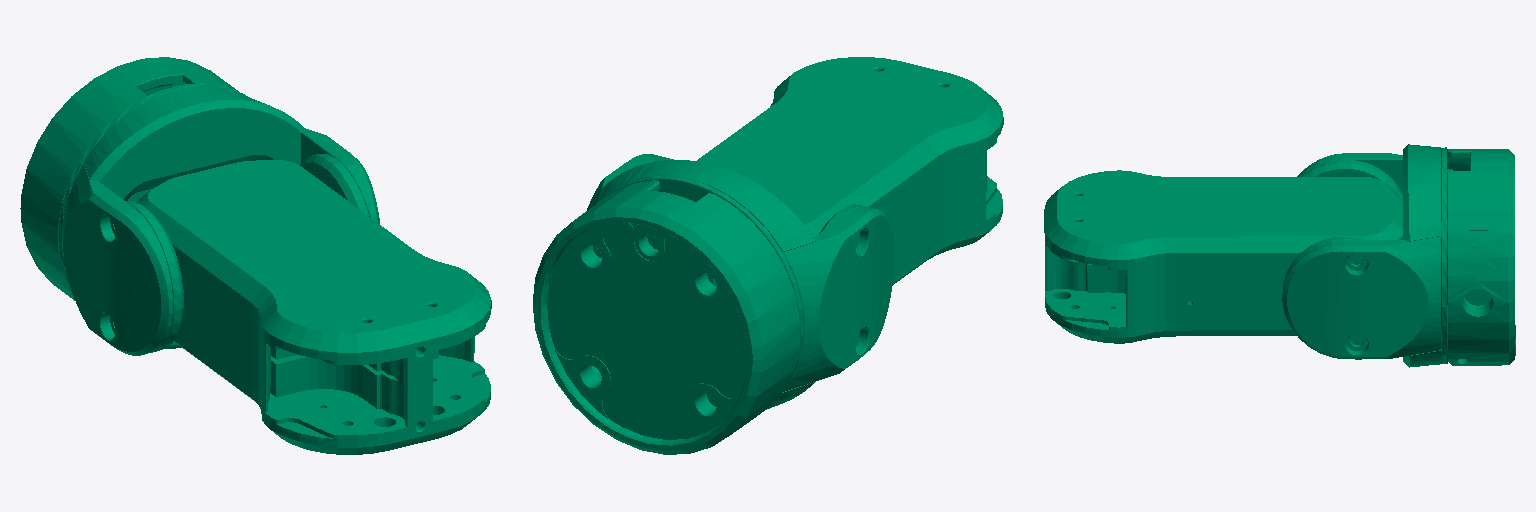
robot.urdf — ur5e_robot:
<?xml version="1.0" encoding="utf-8"?>
<robot name="ur5e_robot">
  <transmission name="shoulder_pan_trans">
    <type>
      transmission_interface/SimpleTransmission
    </type>
    <joint name="shoulder_pan_joint">
      <hardwareInterface>
        hardware_interface/PositionJointInterface
      </hardwareInterface>
    </joint>
    <actuator name="shoulder_pan_motor">
      <mechanicalReduction>
        1
      </mechanicalReduction>
    </actuator>
  </transmission>
  <transmission name="shoulder_lift_trans">
    <type>
      transmission_interface/SimpleTransmission
    </type>
    <joint name="shoulder_lift_joint">
      <hardwareInterface>
        hardware_interface/PositionJointInterface
      </hardwareInterface>
    </joint>
    <actuator name="shoulder_lift_motor">
      <mechanicalReduction>
        1
      </mechanicalReduction>
    </actuator>
  </transmission>
  <transmission name="elbow_trans">
    <type>
      transmission_interface/SimpleTransmission
    </type>
    <joint name="elbow_joint">
      <hardwareInterface>
        hardware_interface/PositionJointInterface
      </hardwareInterface>
    </joint>
    <actuator name="elbow_motor">
      <mechanicalReduction>
        1
      </mechanicalReduction>
    </actuator>
  </transmission>
  <transmission name="wrist_1_trans">
    <type>
      transmission_interface/SimpleTransmission
    </type>
    <joint name="wrist_1_joint">
      <hardwareInterface>
        hardware_interface/PositionJointInterface
      </hardwareInterface>
    </joint>
    <actuator name="wrist_1_motor">
      <mechanicalReduction>
        1
      </mechanicalReduction>
    </actuator>
  </transmission>
  <transmission name="wrist_2_trans">
    <type>
      transmission_interface/SimpleTransmission
    </type>
    <joint name="wrist_2_joint">
      <hardwareInterface>
        hardware_interface/PositionJointInterface
      </hardwareInterface>
    </joint>
    <actuator name="wrist_2_motor">
      <mechanicalReduction>
        1
      </mechanicalReduction>
    </actuator>
  </transmission>
  <transmission name="wrist_3_trans">
    <type>
      transmission_interface/SimpleTransmission
    </type>
    <joint name="wrist_3_joint">
      <hardwareInterface>
        hardware_interface/PositionJointInterface
      </hardwareInterface>
    </joint>
    <actuator name="wrist_3_motor">
      <mechanicalReduction>
        1
      </mechanicalReduction>
    </actuator>
  </transmission>
  <link name="base_link">
    <visual>
      <origin rpy="0 0 3.141592653589793" xyz="0 0 0"/>
      <geometry>
        <mesh filename="../meshes/ur5e/visual/base.dae"/>
      </geometry>
      <material name="LightGrey">
        <color rgba="0.7 0.7 0.7 1.0"/>
      </material>
    </visual>
    <collision>
      <origin rpy="0 0 3.141592653589793" xyz="0 0 0"/>
      <geometry>
        <mesh filename="../meshes/ur5e/collision/base.stl"/>
      </geometry>
    </collision>
    <inertial>
      <mass value="4.0"/>
      <origin rpy="0 0 0" xyz="0 0 0"/>
      <inertia ixx="0.00443333156" ixy="0.0" ixz="0.0" iyy="0.00443333156" iyz="0.0" izz="0.0072"/>
    </inertial>
  </link>
  <link name="shoulder_link">
    <visual>
      <origin rpy="0 0 3.141592653589793" xyz="0 0 0"/>
      <geometry>
        <mesh filename="../meshes/ur5e/visual/shoulder.dae"/>
      </geometry>
      <material name="LightGrey">
        <color rgba="0.7 0.7 0.7 1.0"/>
      </material>
    </visual>
    <collision>
      <origin rpy="0 0 3.141592653589793" xyz="0 0 0"/>
      <geometry>
        <mesh filename="../meshes/ur5e/collision/shoulder.stl"/>
      </geometry>
    </collision>
    <inertial>
      <mass value="3.7"/>
      <origin rpy="0 0 0" xyz="0 0 0"/>
      <inertia ixx="0.010267495893" ixy="0.0" ixz="0.0" iyy="0.010267495893" iyz="0.0" izz="0.00666"/>
    </inertial>
  </link>
  <link name="upper_arm_link">
    <visual>
      <origin rpy="1.5707963267948966 0 -1.5707963267948966" xyz="0 0 0.138"/>
      <geometry>
        <mesh filename="../meshes/ur5e/visual/upperarm.dae"/>
      </geometry>
      <material name="LightGrey">
        <color rgba="0.7 0.7 0.7 1.0"/>
      </material>
    </visual>
    <collision>
      <origin rpy="1.5707963267948966 0 -1.5707963267948966" xyz="0 0 0.138"/>
      <geometry>
        <mesh filename="../meshes/ur5e/collision/upperarm.stl"/>
      </geometry>
    </collision>
    <inertial>
      <mass value="8.393"/>
      <origin rpy="0 1.5707963267948966 0" xyz="-0.2125 0.0 0.138"/>
      <inertia ixx="0.1338857818623325" ixy="0.0" ixz="0.0" iyy="0.1338857818623325" iyz="0.0" izz="0.0151074"/>
    </inertial>
  </link>
  <link name="forearm_link">
    <visual>
      <origin rpy="1.5707963267948966 0 -1.5707963267948966" xyz="0 0 0.007"/>
      <geometry>
        <mesh filename="../meshes/ur5e/visual/forearm.dae"/>
      </geometry>
      <material name="LightGrey">
        <color rgba="0.7 0.7 0.7 1.0"/>
      </material>
    </visual>
    <collision>
      <origin rpy="1.5707963267948966 0 -1.5707963267948966" xyz="0 0 0.007"/>
      <geometry>
        <mesh filename="../meshes/ur5e/collision/forearm.stl"/>
      </geometry>
    </collision>
    <inertial>
      <mass value="2.275"/>
      <origin rpy="0 1.5707963267948966 0" xyz="-0.1961 0.0 0.007"/>
      <inertia ixx="0.031209355099586295" ixy="0.0" ixz="0.0" iyy="0.031209355099586295" iyz="0.0" izz="0.004095"/>
    </inertial>
  </link>
  <link name="wrist_1_link">
    <visual>
      <origin rpy="1.5707963267948966 0 0" xyz="0 0 -0.127"/>
      <geometry>
        <mesh filename="../meshes/ur5e/visual/wrist1.dae"/>
      </geometry>
      <material name="LightGrey">
        <color rgba="0.7 0.7 0.7 1.0"/>
      </material>
    </visual>
    <collision>
      <origin rpy="1.5707963267948966 0 0" xyz="0 0 -0.127"/>
      <geometry>
        <mesh filename="../meshes/ur5e/collision/wrist1.stl"/>
      </geometry>
    </collision>
    <inertial>
      <mass value="1.219"/>
      <origin rpy="0 0 0" xyz="0 0 0"/>
      <inertia ixx="0.0025598989760400002" ixy="0.0" ixz="0.0" iyy="0.0025598989760400002" iyz="0.0" izz="0.0021942"/>
    </inertial>
  </link>
  <link name="wrist_2_link">
    <visual>
      <origin rpy="0 0 0" xyz="0 0 -0.0997"/>
      <geometry>
        <mesh filename="../meshes/ur5e/visual/wrist2.dae"/>
      </geometry>
      <material name="LightGrey">
        <color rgba="0.7 0.7 0.7 1.0"/>
      </material>
    </visual>
    <collision>
      <origin rpy="0 0 0" xyz="0 0 -0.0997"/>
      <geometry>
        <mesh filename="../meshes/ur5e/collision/wrist2.stl"/>
      </geometry>
    </collision>
    <inertial>
      <mass value="1.219"/>
      <origin rpy="0 0 0" xyz="0 0 0"/>
      <inertia ixx="0.0025598989760400002" ixy="0.0" ixz="0.0" iyy="0.0025598989760400002" iyz="0.0" izz="0.0021942"/>
    </inertial>
  </link>
  <link name="wrist_3_link">
    <visual>
      <origin rpy="1.5707963267948966 0 0" xyz="0 0 -0.0989"/>
      <geometry>
        <mesh filename="../meshes/ur5e/visual/wrist3.dae"/>
      </geometry>
      <material name="LightGrey">
        <color rgba="0.7 0.7 0.7 1.0"/>
      </material>
    </visual>
    <collision>
      <origin rpy="1.5707963267948966 0 0" xyz="0 0 -0.0989"/>
      <geometry>
        <mesh filename="../meshes/ur5e/collision/wrist3.stl"/>
      </geometry>
    </collision>
    <inertial>
      <mass value="0.1879"/>
      <origin rpy="0 0 0" xyz="0.0 0.0 -0.0229"/>
      <inertia ixx="9.890410052167731e-05" ixy="0.0" ixz="0.0" iyy="9.890410052167731e-05" iyz="0.0" izz="0.0001321171875"/>
    </inertial>
  </link>
  <joint name="shoulder_pan_joint" type="revolute">
    <parent link="base_link"/>
    <child link="shoulder_link"/>
    <origin rpy="0 0 5.838799881086043e-08" xyz="0 0 0.1627957511460952"/>
    <axis xyz="0 0 1"/>
    <limit effort="150.0" lower="-6.283185307179586" upper="6.283185307179586" velocity="3.141592653589793"/>
    <dynamics damping="0" friction="0"/>
  </joint>
  <joint name="shoulder_lift_joint" type="revolute">
    <parent link="shoulder_link"/>
    <child link="upper_arm_link"/>
    <origin rpy="1.571121456180029 0 3.408471391117692e-06" xyz="0.0002297527990250293 0 0"/>
    <axis xyz="0 0 1"/>
    <limit effort="150.0" lower="-6.283185307179586" upper="6.283185307179586" velocity="3.141592653589793"/>
    <dynamics damping="0" friction="0"/>
  </joint>
  <joint name="elbow_joint" type="revolute">
    <parent link="upper_arm_link"/>
    <child link="forearm_link"/>
    <origin rpy="3.141560008571467 -3.140442251338941 -3.141590660002632" xyz="-0.4251778979556664 0 0"/>
    <axis xyz="0 0 1"/>
    <limit effort="150.0" lower="-3.141592653589793" upper="3.141592653589793" velocity="3.141592653589793"/>
    <dynamics damping="0" friction="0"/>
  </joint>
  <joint name="wrist_1_joint" type="revolute">
    <parent link="forearm_link"/>
    <child link="wrist_1_link"/>
    <origin rpy="0.005348319422639594 0.0007457898627076391 -9.589521419945506e-06" xyz="-0.3922529717389943 -0.0007143311192542647 0.1335605171943241"/>
    <axis xyz="0 0 1"/>
    <limit effort="28.0" lower="-6.283185307179586" upper="6.283185307179586" velocity="3.141592653589793"/>
    <dynamics damping="0" friction="0"/>
  </joint>
  <joint name="wrist_2_joint" type="revolute">
    <parent link="wrist_1_link"/>
    <child link="wrist_2_link"/>
    <origin rpy="1.569002492985847 0 2.722422549790438e-07" xyz="1.071549191182041e-05 -0.09981515817881177 0.0001790519974503692"/>
    <axis xyz="0 0 1"/>
    <limit effort="28.0" lower="-6.283185307179586" upper="6.283185307179586" velocity="3.141592653589793"/>
    <dynamics damping="0" friction="0"/>
  </joint>
  <joint name="wrist_3_joint" type="revolute">
    <parent link="wrist_2_link"/>
    <child link="wrist_3_link"/>
    <origin rpy="1.570920213539041 3.141592653589793 3.141592608469836" xyz="2.427717241733769e-05 0.0996119808551117 1.234060404910167e-05"/>
    <axis xyz="0 0 1"/>
    <limit effort="28.0" lower="-6.283185307179586" upper="6.283185307179586" velocity="3.141592653589793"/>
    <dynamics damping="0" friction="0"/>
  </joint>

  <joint name="flange_camera_flange_joint" type="fixed">
    <parent link="flange"/>
    <child link="camera_wrist_mount"/>
    <origin rpy="0 0 0" xyz="0.000 0.000 0.00"/>
  </joint>
  <link name="camera_wrist_mount">
    <visual>
      <origin xyz="0.0 0 0.015" rpy="0 1.570796327 -1.570796327 "/>
      <geometry>
        <mesh filename="../meshes/camera/wrist_mount.stl"/>
      </geometry>
    </visual>
    <collision>
      <origin rpy="0 0 0" xyz="0.0 -0.02 0.0075"/>
      <geometry>
          <box size="0.055 0.11 0.015"/>
      </geometry>
    </collision>
    <inertial>
      <origin rpy="0.00 0.00 0.00" xyz="0.061902 0.000129 -0.000005"/>
      <mass value="1.684558"/>
      <inertia ixx="0.000862" ixy="0.000000" ixz="0.000000" iyy="0.002401" iyz="-0.000001" izz="0.002620"/>
    </inertial>
  </link>
  <joint name="camera_wrist_mount_mount2_fixed_joint" type="fixed">
    <parent link="camera_wrist_mount"/>
    <child link="camera_and_mount"/>
    <origin rpy="0 0 0" xyz="0.0 -0.0625 0.0"/>
  </joint>
  <link name="camera_and_mount">
    <visual>
      <origin rpy="0 -1.570796327 1.570796327" xyz="0.0 0.0 0.0075"/>
      <geometry>
          <mesh filename="../meshes/camera/simple_basler_with_mount.stl"/>
      </geometry>
    </visual>
    <collision>
      <origin rpy="0 0 0" xyz="0.0 -0.025 0.03"/>
      <geometry>
          <box size="0.05 0.05 0.16"/>
      </geometry>
    </collision>
    <inertial>
      <origin rpy="0.00 0.00 0.00" xyz="0.061902 0.000129 -0.000005"/>
      <mass value="1.684558"/>
      <inertia ixx="0.000862" ixy="0.000000" ixz="0.000000" iyy="0.002401" iyz="-0.000001" izz="0.002620"/>
    </inertial>
  </link>
  <link name="gripper_base_link"/>
  <joint name="gripper_base_link_hand_link_fixed_joint" type="fixed">
    <parent link="gripper_base_link"/>
    <child link="hand_link"/>
    <origin rpy="0 0 0" xyz="0.0 0.000 0.000"/>
  </joint>
  <link name="hand_link">
    <collision>
      <origin rpy="0.00 0.00 0.00" xyz="0.00 0.00 0.00"/>
      <geometry>
        <mesh filename="../meshes/gripper_onrobot_rg2/collision/RG2_Hand_col.STL"/>
      </geometry>
    </collision>
    <visual>
      <origin rpy="0.00 0.00 0.00" xyz="0.00 0.00 0.00"/>
      <geometry>
        <mesh filename="../meshes/gripper_onrobot_rg2/visual/RG2_Hand_vis.STL"/>
      </geometry>
    </visual>
    <inertial>
      <origin rpy="0.00 0.00 0.00" xyz="0.061902 0.000129 -0.000005"/>
      <mass value="1.684558"/>
      <inertia ixx="0.000862" ixy="0.000000" ixz="0.000000" iyy="0.002401" iyz="-0.000001" izz="0.002620"/>
    </inertial>
  </link>
  <joint name="l_moment_arm_joint" type="revolute">
    <parent link="hand_link"/>
    <child link="l_moment_arm_link"/>
    <origin rpy="0 0 0" xyz="0.132 0.017 0.010"/>
    <axis xyz="0 0 1"/>
    <limit effort="10.6" lower="-0.45" upper="1.570796327" velocity="3.14"/>
    <dynamics damping="0.1" friction="0.0"/>
    <implicitSpringDamper>
      True
    </implicitSpringDamper>
  </joint>
  <transmission name="l_moment_arm_joint_tran">
    <type>
      transmission_interface/SimpleTransmission
    </type>
    <joint name="l_moment_arm_joint">
      <hardwareInterface>
        hardware_interface/EffortJointInterface
      </hardwareInterface>
    </joint>
    <actuator name="l_moment_arm_joint_motor">
      <hardwareInterface>
        hardware_interface/EffortJointInterface
      </hardwareInterface>
      <mechanicalReduction>
        1
      </mechanicalReduction>
    </actuator>
  </transmission>
  <link name="l_moment_arm_link">
    <collision>
      <origin rpy="0.00 0.00 0.00" xyz="0.00 0.00 0.00"/>
      <geometry>
        <mesh filename="../meshes/gripper_onrobot_rg2/collision/RG2_LeftMomentArm_col.STL"/>
      </geometry>
    </collision>
    <visual>
      <origin rpy="0.00 0.00 0.00" xyz="0.00 0.00 0.00"/>
      <geometry>
        <mesh filename="../meshes/gripper_onrobot_rg2/visual/RG2_LeftMomentArm_vis.STL"/>
      </geometry>
    </visual>
    <inertial>
      <origin rpy="0.00 0.00 0.00" xyz="0.017004 0.006397 -0.010300"/>
      <mass value="0.160209"/>
      <inertia ixx="0.000023" ixy="0.000019" ixz="0.000000" iyy="0.000072" iyz="0.000000" izz="0.000083"/>
    </inertial>
  </link>
  <joint name="l_finger_2_joint" type="revolute">
    <parent link="l_moment_arm_link"/>
    <child link="l_finger_link"/>
    <origin rpy="0 0 0" xyz="0.049 0.026 0.000"/>
    <axis xyz="0 0 1"/>
    <limit effort="10.6" lower="-1.570796327" upper="1.570796327" velocity="3.14"/>
    <dynamics damping="0.1" friction="0.0"/>
    <implicitSpringDamper>
      True
    </implicitSpringDamper>
  </joint>
  <transmission name="l_finger_2_joint_tran">
    <type>
      transmission_interface/SimpleTransmission
    </type>
    <joint name="l_finger_2_joint">
      <hardwareInterface>
        hardware_interface/EffortJointInterface
      </hardwareInterface>
    </joint>
    <actuator name="l_finger_2_joint_motor">
      <hardwareInterface>
        hardware_interface/EffortJointInterface
      </hardwareInterface>
      <mechanicalReduction>
        1
      </mechanicalReduction>
    </actuator>
  </transmission>
  <link name="l_finger_link">
    <collision>
      <origin rpy="0.00 0.00 0.00" xyz="0.00 0.00 0.00"/>
      <geometry>
        <mesh filename="../meshes/gripper_onrobot_rg2/collision/RG2_LeftFinger_col.STL"/>
      </geometry>
      <collision_margin value="0.001"/>
    </collision>
    <visual>
      <origin rpy="0.00 0.00 0.00" xyz="0.00 0.00 0.00"/>
      <geometry>
        <mesh filename="../meshes/gripper_onrobot_rg2/visual/RG2_LeftFinger_vis.STL"/>
      </geometry>
    </visual>
    <inertial>
      <origin rpy="0.00 0.00 0.00" xyz="0.024695 -0.010178 -0.010001"/>
      <mass value="0.081638"/>
      <inertia ixx="0.000006" ixy="-0.000005" ixz="0.000000" iyy="0.000025" iyz="0.000000" izz="0.000026"/>
    </inertial>
  </link>
  <joint name="l_finger_passive_joint" type="revolute">
    <parent link="l_finger_link"/>
    <child link="l_truss_arm_link"/>
    <origin rpy="0 0 0" xyz="0.0165 -0.0093 0.0"/>
    <axis xyz="0 0 1"/>
    <limit effort="10.6" lower="-1.570796327" upper="1.570796327" velocity="3.14"/>
    <dynamics damping="0.1" friction="0.0"/>
    <implicitSpringDamper>
      True
    </implicitSpringDamper>
  </joint>
  <transmission name="l_finger_passive_joint_tran">
    <type>
      transmission_interface/SimpleTransmission
    </type>
    <joint name="l_finger_passive_joint">
      <hardwareInterface>
        hardware_interface/EffortJointInterface
      </hardwareInterface>
    </joint>
    <actuator name="l_finger_passive_joint_motor">
      <hardwareInterface>
        hardware_interface/EffortJointInterface
      </hardwareInterface>
      <mechanicalReduction>
        1
      </mechanicalReduction>
    </actuator>
  </transmission>
  <link name="l_truss_arm_link">
    <collision>
      <origin rpy="0.00 0.00 0.00" xyz="-0.0487 -0.0258 0.00"/>
      <geometry>
        <mesh filename="../meshes/gripper_onrobot_rg2/collision/RG2_LeftTrussArm_col.STL"/>
      </geometry>
    </collision>
    <visual>
      <origin rpy="0.00 0.00 0.00" xyz="-0.0487 -0.0258 0.00"/>
      <geometry>
        <mesh filename="../meshes/gripper_onrobot_rg2/visual/RG2_LeftTrussArm_vis.STL"/>
      </geometry>
    </visual>
    <inertial>
      <origin rpy="0.00 0.00 0.00" xyz="0.023075 0.012136 -0.010000"/>
      <mass value="0.065927"/>
      <inertia ixx="0.000010" ixy="0.000010" ixz="0.000000" iyy="0.000024" iyz="0.000000" izz="0.000025"/>
    </inertial>
  </link>
  <joint name="r_finger_1_joint" type="revolute">
    <parent link="hand_link"/>
    <child link="r_moment_arm_link"/>
    <origin rpy="0 0 0" xyz="0.132 -0.017 0.010"/>
    <axis xyz="0 0 1"/>
    <limit effort="10.6" lower="-1.570796327" upper="1.570796327" velocity="3.14"/>
    <dynamics damping="0.1" friction="0.0"/>
    <implicitSpringDamper>
      True
    </implicitSpringDamper>
  </joint>
  <transmission name="r_finger_1_joint_tran">
    <type>
      transmission_interface/SimpleTransmission
    </type>
    <joint name="r_finger_1_joint">
      <hardwareInterface>
        hardware_interface/EffortJointInterface
      </hardwareInterface>
    </joint>
    <actuator name="r_finger_1_joint_motor">
      <hardwareInterface>
        hardware_interface/EffortJointInterface
      </hardwareInterface>
      <mechanicalReduction>
        1
      </mechanicalReduction>
    </actuator>
  </transmission>
  <link name="r_moment_arm_link">
    <collision>
      <origin rpy="0.00 0.00 0.00" xyz="0.00 0.00 0.00"/>
      <geometry>
        <mesh filename="../meshes/gripper_onrobot_rg2/collision/RG2_RightMomentArm_col.STL"/>
      </geometry>
    </collision>
    <visual>
      <origin rpy="0.00 0.00 0.00" xyz="0.00 0.00 0.00"/>
      <geometry>
        <mesh filename="../meshes/gripper_onrobot_rg2/visual/RG2_RightMomentArm_vis.STL"/>
      </geometry>
    </visual>
    <inertial>
      <origin rpy="0.00 0.00 0.00" xyz="0.017004 -0.006397 -0.010300"/>
      <mass value="0.160209"/>
      <inertia ixx="0.000023" ixy="-0.000019" ixz="0.000000" iyy="0.000072" iyz="0.000000" izz="0.000083"/>
    </inertial>
  </link>
  <joint name="r_finger_2_joint" type="revolute">
    <parent link="r_moment_arm_link"/>
    <child link="r_finger_link"/>
    <origin rpy="0 0 0" xyz="0.049 -0.026 0.000"/>
    <axis xyz="0 0 1"/>
    <limit effort="10.6" lower="-1.570796327" upper="1.570796327" velocity="3.14"/>
    <dynamics damping="0.1" friction="0.0"/>
    <implicitSpringDamper>
      True
    </implicitSpringDamper>
  </joint>
  <transmission name="r_finger_2_joint_tran">
    <type>
      transmission_interface/SimpleTransmission
    </type>
    <joint name="r_finger_2_joint">
      <hardwareInterface>
        hardware_interface/EffortJointInterface
      </hardwareInterface>
    </joint>
    <actuator name="r_finger_2_joint_motor">
      <hardwareInterface>
        hardware_interface/EffortJointInterface
      </hardwareInterface>
      <mechanicalReduction>
        1
      </mechanicalReduction>
    </actuator>
  </transmission>
  <link name="r_finger_link">
    <collision>
      <origin rpy="0.00 0.00 0.00" xyz="0.00 0.00 0.00"/>
      <geometry>
        <mesh filename="../meshes/gripper_onrobot_rg2/collision/RG2_RightFinger_col.STL"/>
      </geometry>
      <collision_margin value="0.001"/>
    </collision>
    <visual>
      <origin rpy="0.00 0.00 0.00" xyz="0.00 0.00 0.00"/>
      <geometry>
        <mesh filename="../meshes/gripper_onrobot_rg2/visual/RG2_RightFinger_vis.STL"/>
      </geometry>
    </visual>
    <inertial>
      <origin rpy="0.00 0.00 0.00" xyz="0.024695 0.010178 -0.010000"/>
      <mass value="0.081637"/>
      <inertia ixx="0.000006" ixy="0.000005" ixz="0.000000" iyy="0.000025" iyz="0.000000" izz="0.000026"/>
    </inertial>
  </link>
  <joint name="r_finger_passive_joint" type="revolute">
    <parent link="r_finger_link"/>
    <child link="r_truss_arm_link"/>
    <origin rpy="0 0 0" xyz="0.0165 0.0093 0.0"/>
    <axis xyz="0 0 1"/>
    <limit effort="10.6" lower="-1.570796327" upper="1.570796327" velocity="3.14"/>
    <dynamics damping="0.1" friction="0.0"/>
    <implicitSpringDamper>
      True
    </implicitSpringDamper>
  </joint>
  <transmission name="r_finger_passive_joint_tran">
    <type>
      transmission_interface/SimpleTransmission
    </type>
    <joint name="r_finger_passive_joint">
      <hardwareInterface>
        hardware_interface/EffortJointInterface
      </hardwareInterface>
    </joint>
    <actuator name="r_finger_passive_joint_motor">
      <hardwareInterface>
        hardware_interface/EffortJointInterface
      </hardwareInterface>
      <mechanicalReduction>
        1
      </mechanicalReduction>
    </actuator>
  </transmission>
  <link name="r_truss_arm_link">
    <collision>
      <origin rpy="0.00 0.00 0.00" xyz="-0.0487 0.0258 0.00"/>
      <geometry>
        <mesh filename="../meshes/gripper_onrobot_rg2/collision/RG2_RightTrussArm_col.STL"/>
      </geometry>
    </collision>
    <visual>
      <origin rpy="0.00 0.00 0.00" xyz="-0.0487 0.0258 0.00"/>
      <geometry>
        <mesh filename="../meshes/gripper_onrobot_rg2/visual/RG2_RightTrussArm_vis.STL"/>
      </geometry>
    </visual>
    <inertial>
      <origin rpy="0.00 0.00 0.00" xyz="0.023075 -0.012136 -0.010000"/>
      <mass value="0.065927"/>
      <inertia ixx="0.000010" ixy="-0.000010" ixz="0.000000" iyy="0.000024" iyz="0.000000" izz="0.000025"/>
    </inertial>
  </link>
  <joint name="flange-rg2" type="fixed">
    <origin rpy="3.141592653589793 -1.5707963267948966 -1.5707963267948966" xyz="0.0 0 0.0155"/>
    <parent link="flange"/>
    <child link="gripper_base_link"/>
  </joint>
  <link name="flange"/>
  <joint name="wrist_3-flange" type="fixed">
    <parent link="wrist_3_link"/>
    <child link="flange"/>
    <origin rpy="0 0 0" xyz="0 0 0"/>
  </joint>
  <link name="tcp">
  </link>
  <link name="tcp_extension">
  </link>
  <joint name="tcp-tcp_extension" type="fixed">
    <origin rpy="0 0 0" xyz="0 0 0.2"/>
    <parent link="tcp"/>
    <child link="tcp_extension"/>
  </joint>
  <joint name="flange-tcp" type="fixed">
    <origin rpy="0 0 0" xyz="0 0 0.223"/>
    <parent link="flange"/>
    <child link="tcp"/>
  </joint>
  <link name="world"/>
  <joint name="world_joint" type="fixed">
    <parent link="world"/>
    <child link="base_link"/>
    <origin rpy="0.0 0.0 0.0" xyz="0.0 0.0 0.0"/>
  </joint>
</robot>

--- Facts derived from the render (not from the file) ---
The picture shows the robot from 3 angles, left to right: view 1: azimuth 30°, elevation 25°; view 2: azimuth 150°, elevation 25°; view 3: azimuth 270°, elevation 25°; orthographic projection.
Robot: ur5e_robot — 21 links, 20 joints (12 revolute, 8 fixed); root link world; default pose: all joints at 0.
Links seen in each view (by area): view 1: hand_link; view 2: hand_link; view 3: hand_link.
Boxes of the visible links, left/top/right/bottom form: hand_link: left=20, top=57, right=491, bottom=454; hand_link: left=533, top=57, right=1003, bottom=454; hand_link: left=1044, top=144, right=1515, bottom=367.
Size in the robot's own frame: 0.075 by 0.154 by 0.0715 metres.
1 mesh visuals loaded from 16 distinct referenced files (1 binary STL); not drawn: 15 (reference not matched to a file when rendering).